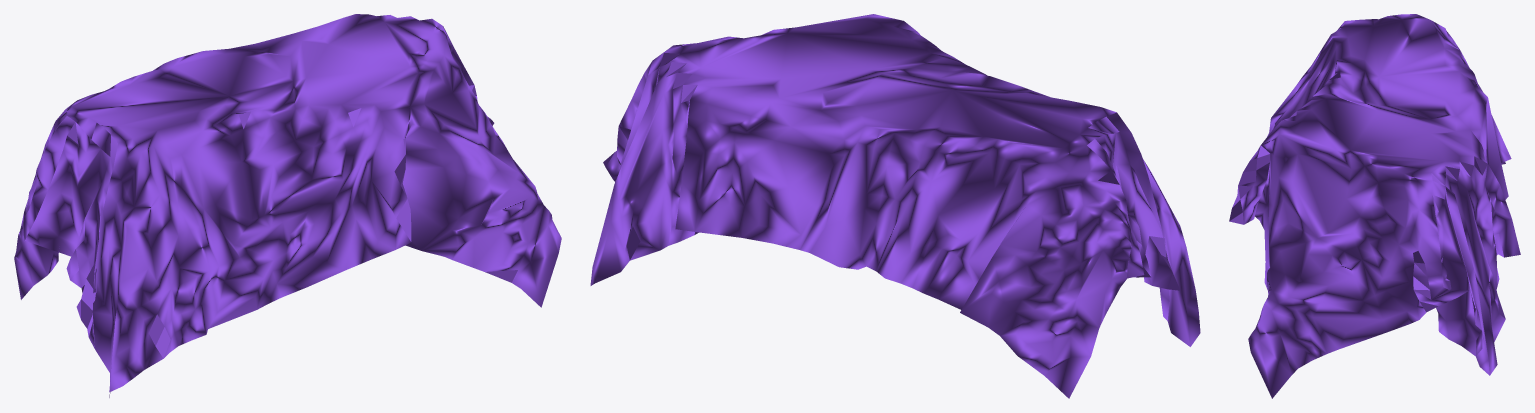
File: crate_dry_1_cloth_b.glb
3 views of the same model, side by side, from view 1: azimuth 30°, elevation 25°; view 2: azimuth 150°, elevation 25°; view 3: azimuth 270°, elevation 25° (orthographic). The views are drawn at different scales.
Size of the model in its own units: 2.38 by 1.1 by 1.37.
